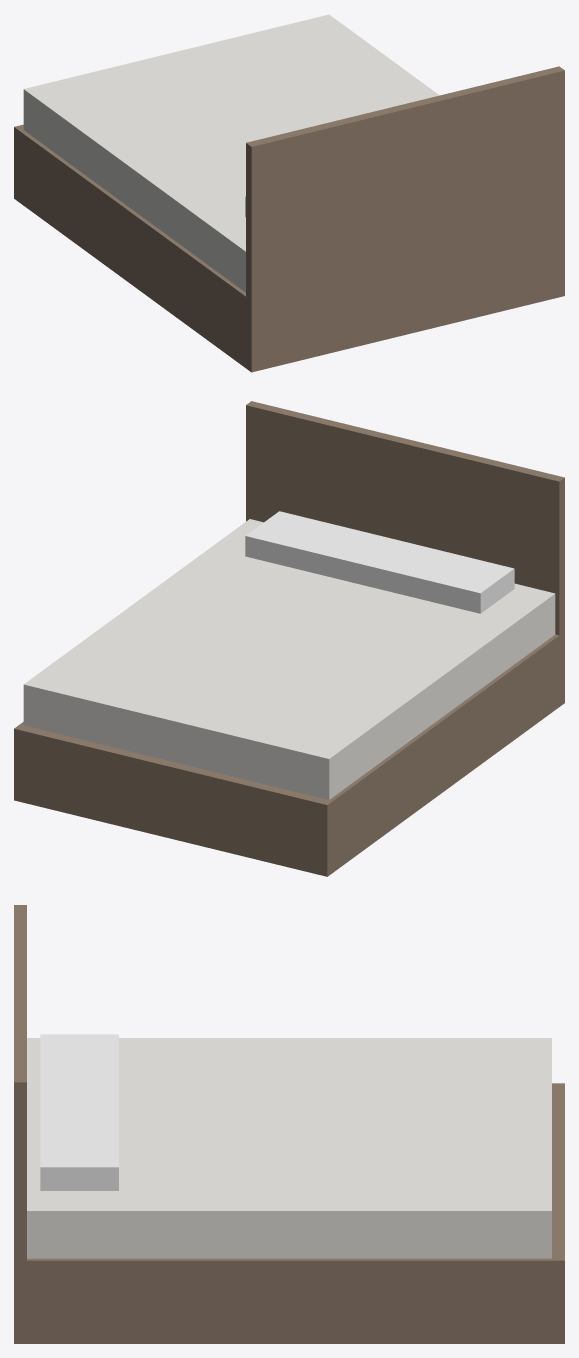
Rendered from bed.gltf.
The picture shows the model from 3 angles, top to bottom: view 1: azimuth 30°, elevation 25°; view 2: azimuth 150°, elevation 25°; view 3: azimuth 270°, elevation 25°; orthographic projection. The views are drawn at different scales.
Visible parts, largest first — view 1: bed; view 2: bed; view 3: bed.
Part boxes in pixels (bbox=[...]): bed: bbox=[14, 14, 564, 372]; bed: bbox=[14, 401, 564, 876]; bed: bbox=[14, 905, 564, 1343].
Size of the model in its own units: 1.6 by 1.1 by 2.1.
